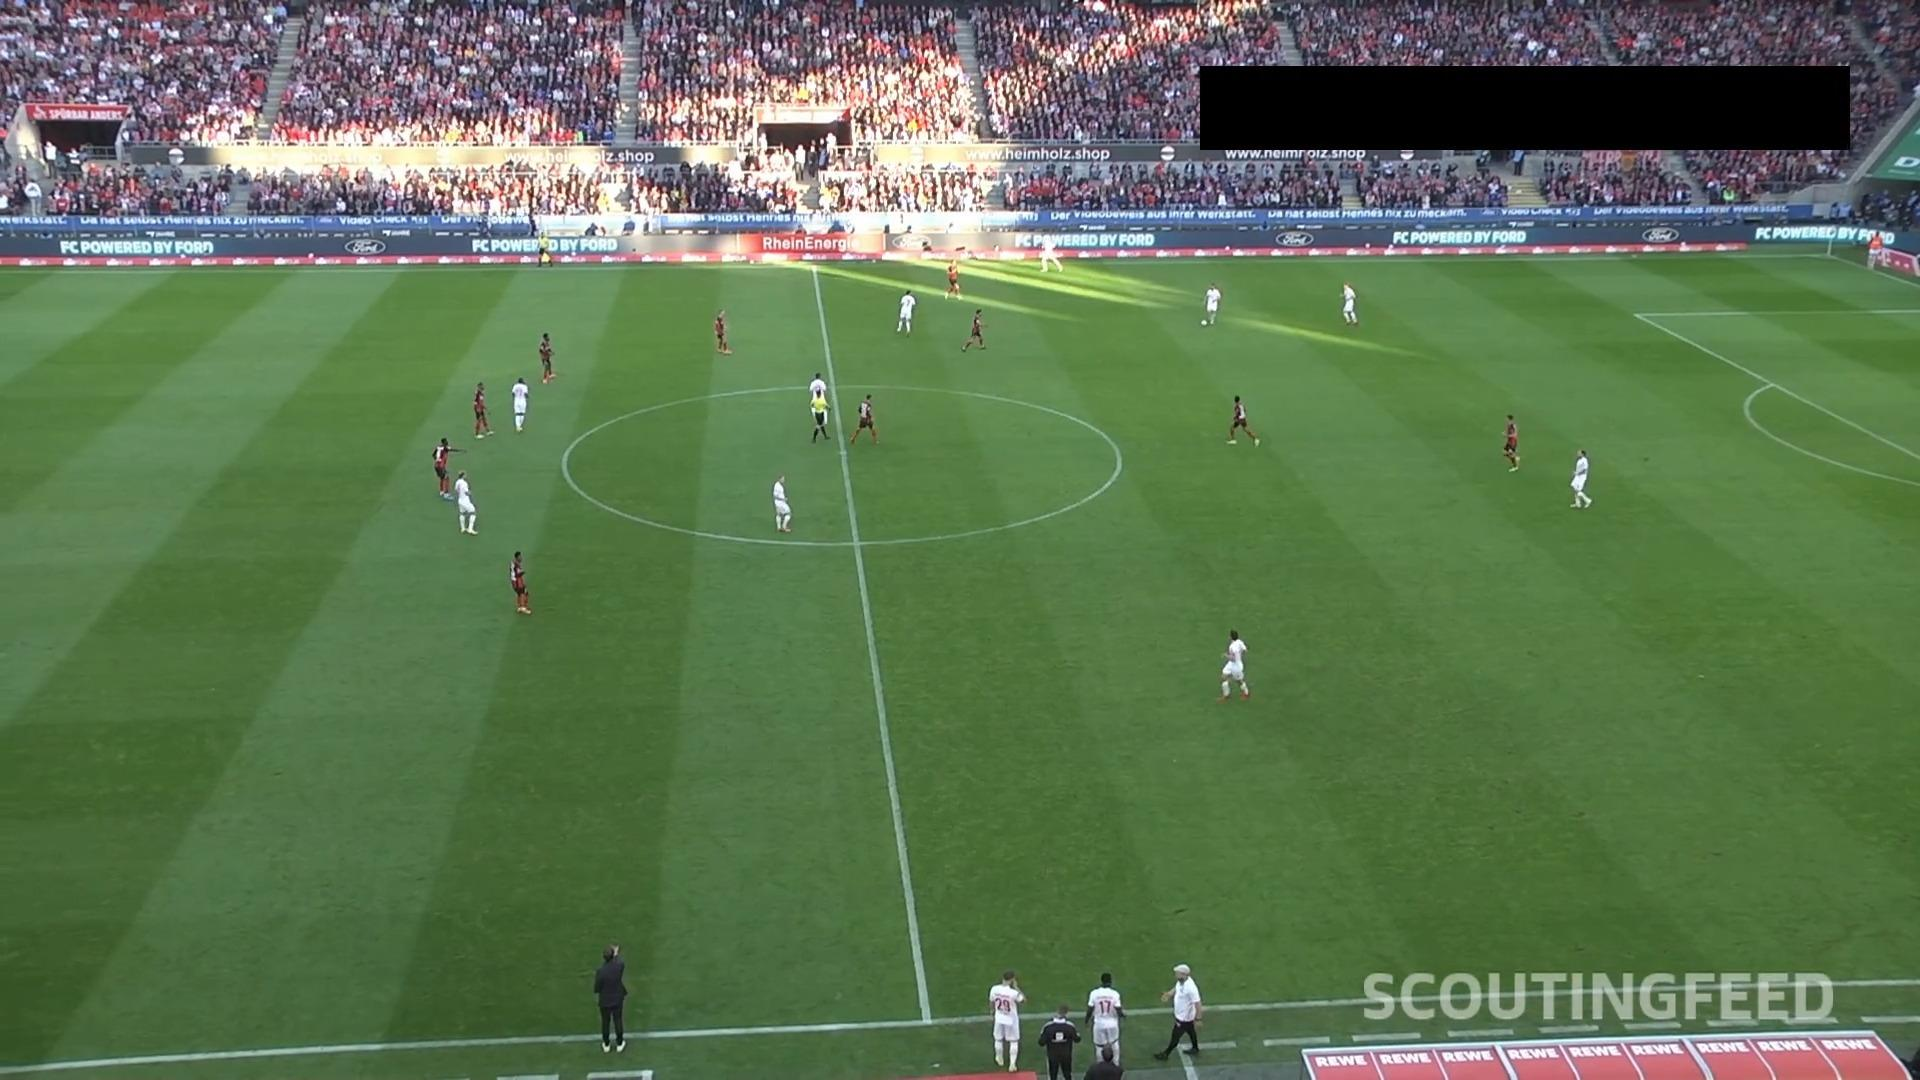ball: (1200, 319, 1209, 327)
